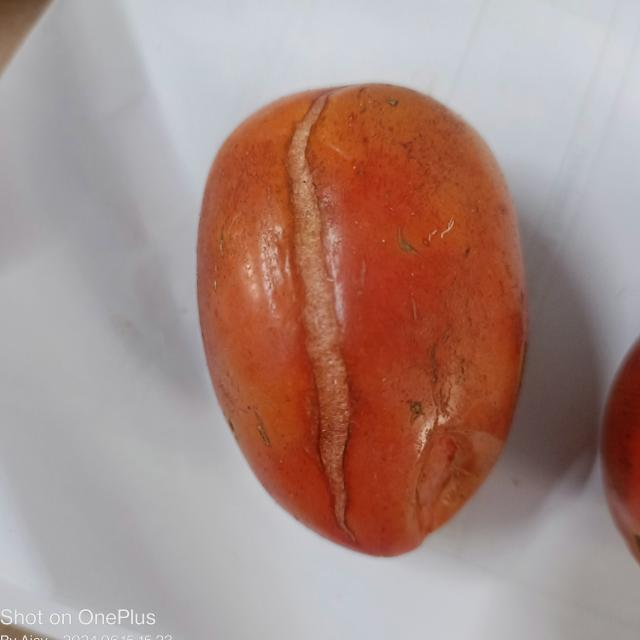tomato_cracking: (289, 82, 354, 535)
